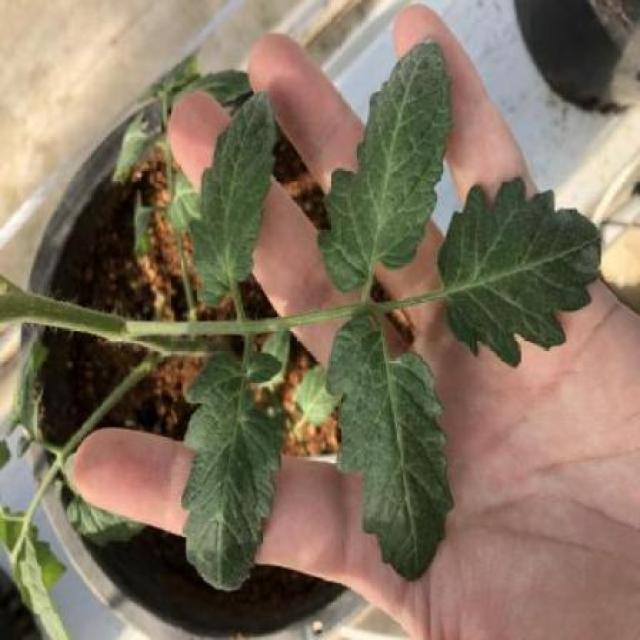Healthy: (317, 38, 453, 296), (326, 317, 456, 582), (438, 178, 601, 369), (182, 352, 282, 591), (188, 91, 278, 308)
